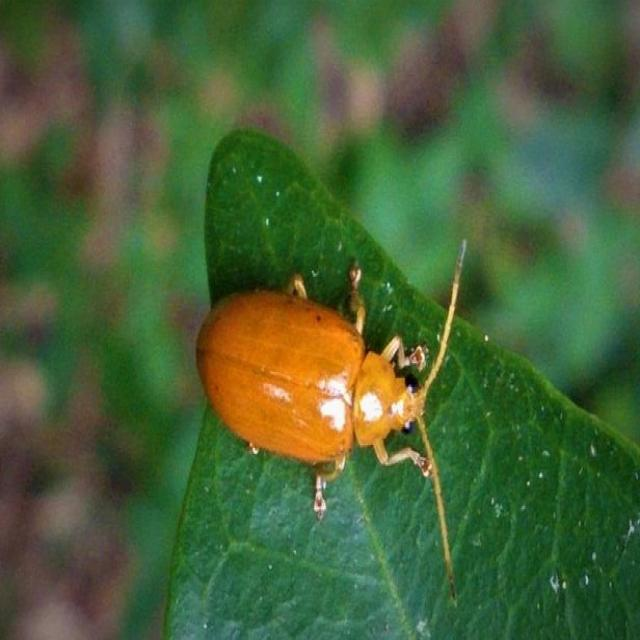Pumpkin Beetle: (188, 225, 475, 621)
